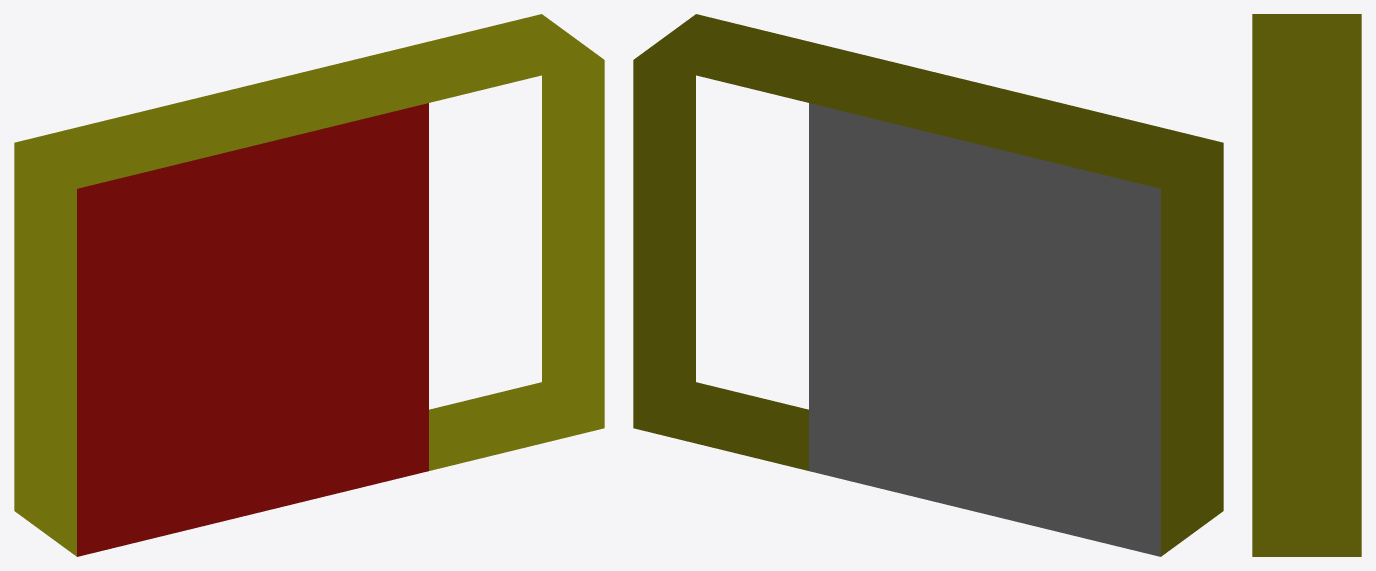
Rendered from idf.obj.
3 views of the same model, side by side, from view 1: azimuth 30°, elevation 25°; view 2: azimuth 150°, elevation 25°; view 3: azimuth 270°, elevation 25° (orthographic). The views are drawn at different scales.
Size of the model in its own units: 15 by 10 by 3.1.
